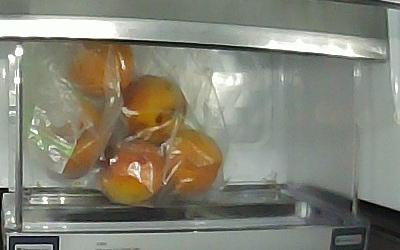peach_vinyl: (31, 98, 111, 179), (119, 75, 187, 144), (99, 139, 166, 205), (163, 129, 222, 198), (68, 42, 135, 98)
